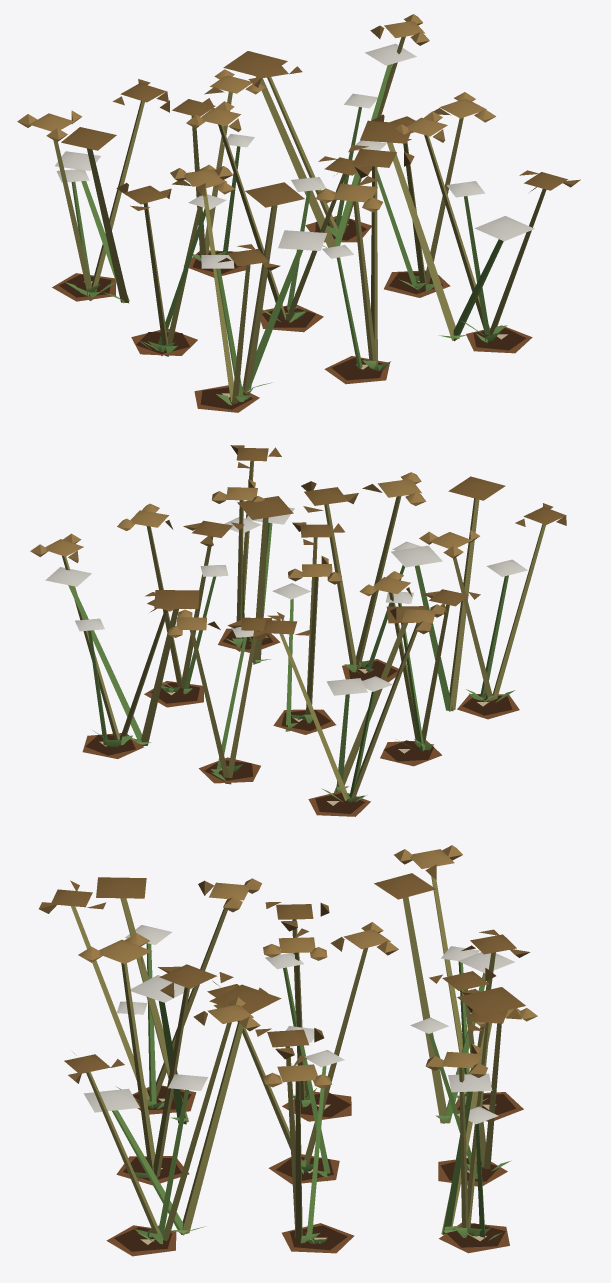
The model's file is cumin-w5.glb.
The picture shows the model from 3 angles, top to bottom: view 1: azimuth 30°, elevation 25°; view 2: azimuth 150°, elevation 25°; view 3: azimuth 270°, elevation 25°; orthographic projection. The views are drawn at different scales.
Parts seen in each view (by area): view 1: crop-cumin-3, crop-cumin-3-far, crop-cumin-0, crop-cumin-2, crop-cumin-2-far, crop-cumin-1; view 2: crop-cumin-3, crop-cumin-0, crop-cumin-3-far, crop-cumin-2, crop-cumin-2-far, crop-cumin-1; view 3: crop-cumin-3, crop-cumin-3-far, crop-cumin-0, crop-cumin-2, crop-cumin-2-far, crop-cumin-1.
Part boxes in pixels (left/top/right/bottom): crop-cumin-3: left=17, top=14, right=580, bottom=405; crop-cumin-3-far: left=61, top=51, right=459, bottom=390; crop-cumin-0: left=52, top=216, right=532, bottom=412; crop-cumin-2: left=56, top=93, right=490, bottom=401; crop-cumin-2-far: left=55, top=43, right=534, bottom=391; crop-cumin-1: left=78, top=225, right=499, bottom=399; crop-cumin-3: left=30, top=445, right=566, bottom=801; crop-cumin-0: left=82, top=628, right=519, bottom=816; crop-cumin-3-far: left=136, top=476, right=505, bottom=792; crop-cumin-2: left=75, top=517, right=527, bottom=801; crop-cumin-2-far: left=45, top=507, right=453, bottom=792; crop-cumin-1: left=104, top=636, right=486, bottom=802; crop-cumin-3: left=39, top=845, right=537, bottom=1244; crop-cumin-3-far: left=96, top=873, right=525, bottom=1234; crop-cumin-0: left=106, top=1085, right=523, bottom=1256; crop-cumin-2: left=117, top=925, right=502, bottom=1242; crop-cumin-2-far: left=83, top=952, right=514, bottom=1235; crop-cumin-1: left=134, top=1088, right=491, bottom=1243.
Bounding box in the file's own units: 1.97 × 0.899 × 1.96.
